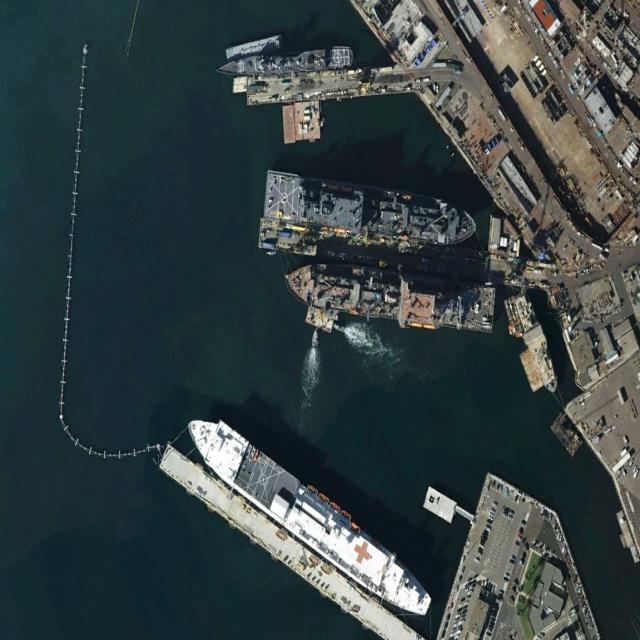Auxiliary Ships: (177, 400, 438, 629)
Commander: (262, 169, 480, 250), (283, 255, 495, 335)
Frigate: (215, 42, 355, 81)
